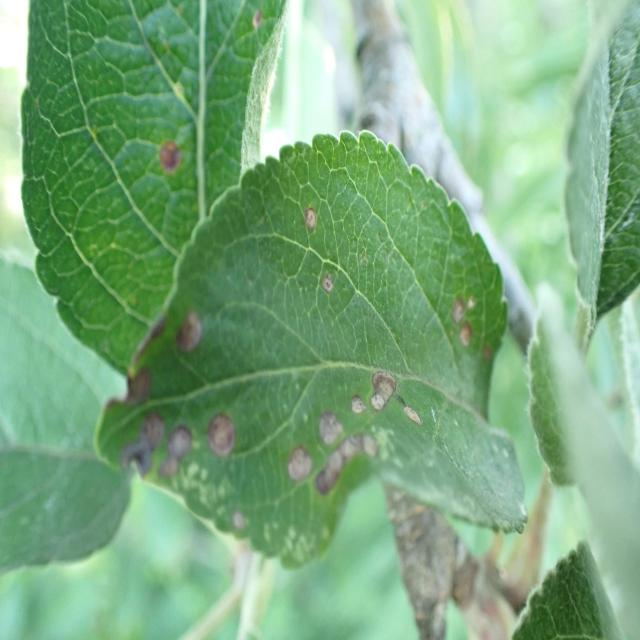Black Rot: (107, 352, 200, 502), (348, 366, 432, 456), (308, 430, 377, 506), (194, 388, 246, 476), (153, 121, 194, 201), (167, 305, 207, 373), (290, 400, 351, 444), (287, 422, 317, 496), (310, 264, 336, 310), (302, 199, 322, 229)
